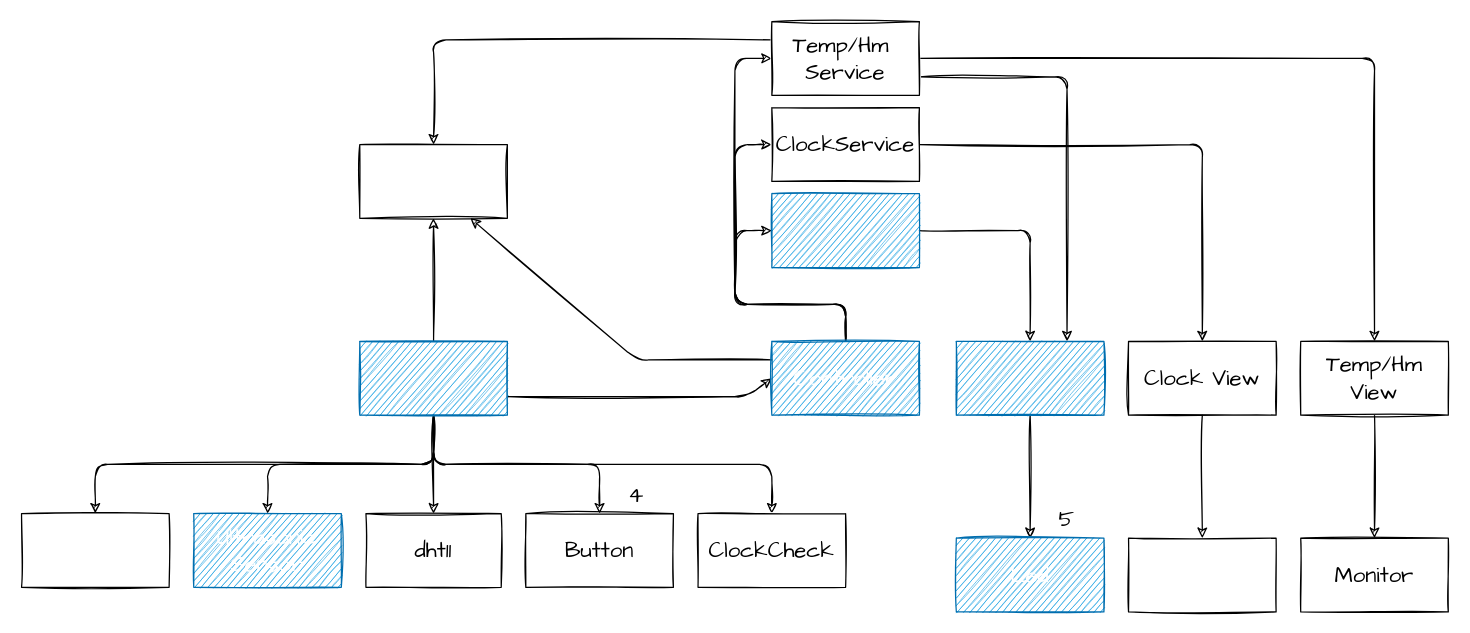
Image size: 1470x633. Some labels were removed from this diagram. Each missing label, with the centre of its shape:
DHT_Data: pixel 433 180
LCD: pixel 1201 574
Light View: pixel 1029 377
Listener: pixel 433 377
StandLight Service: pixel 845 230
